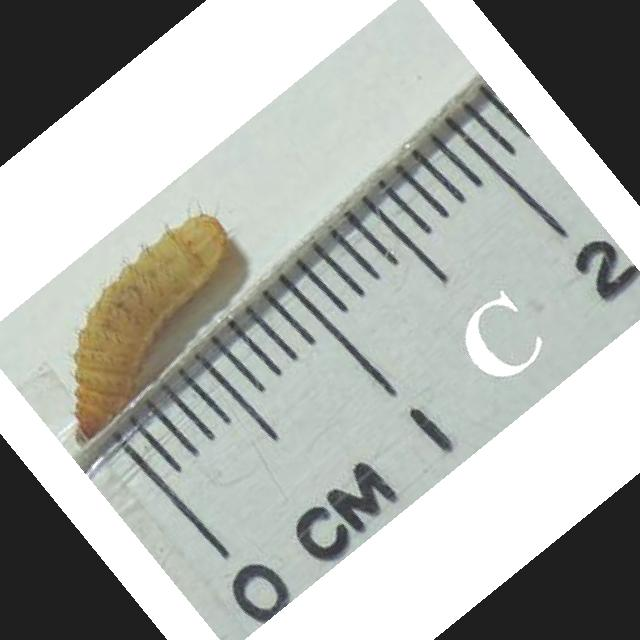Maggot: (67, 207, 233, 440)
